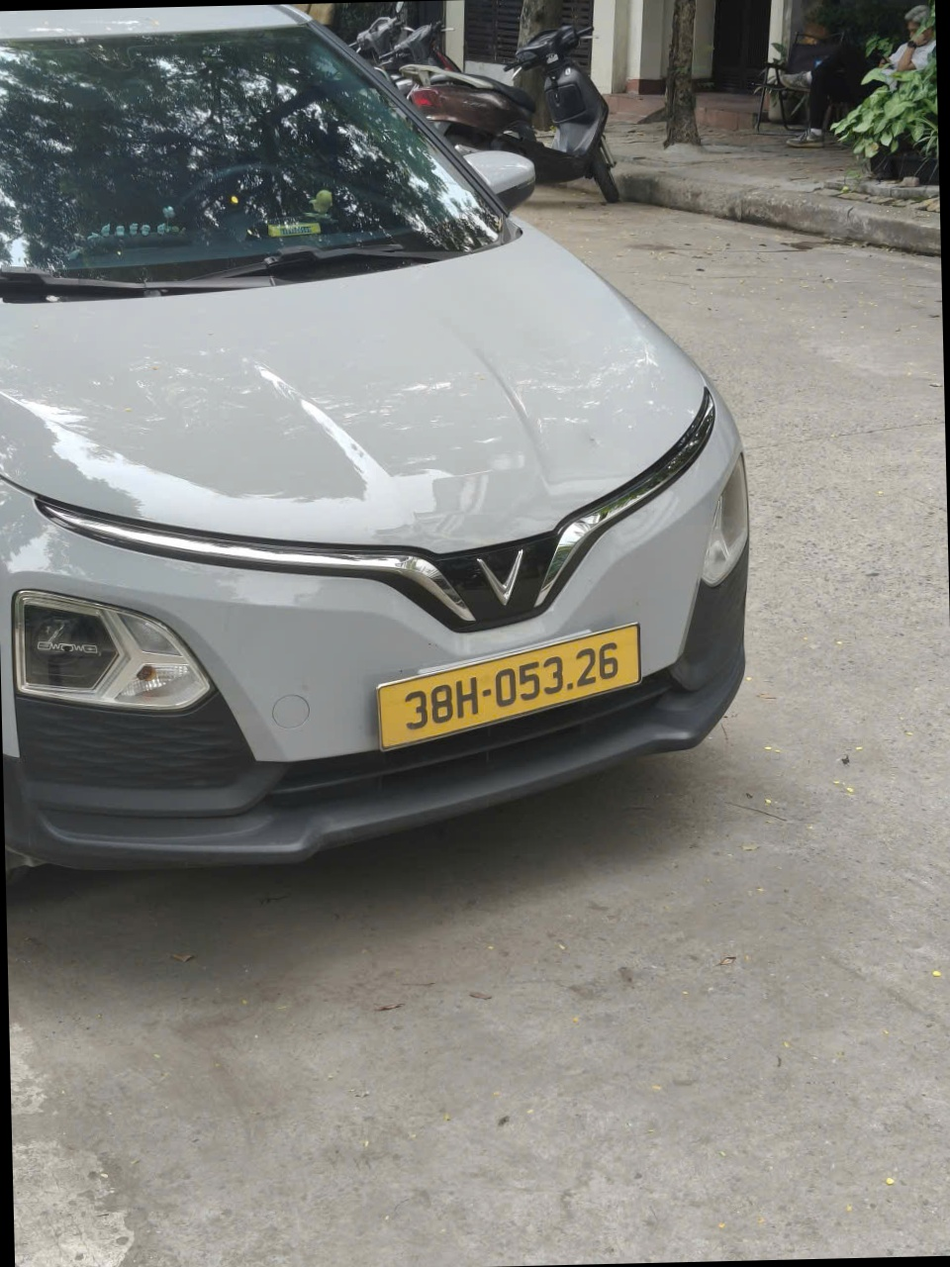plate: (247, 249, 412, 281)
